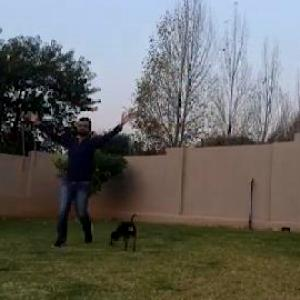takeoff: (25, 110, 136, 234)
